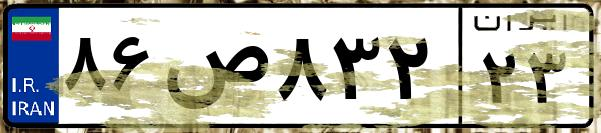2: (385, 28, 445, 110), (475, 38, 525, 113)
3: (330, 28, 385, 110), (525, 38, 570, 115)
6: (110, 28, 158, 98)
8: (270, 28, 330, 110), (57, 26, 110, 100)
ص: (158, 20, 270, 120)
